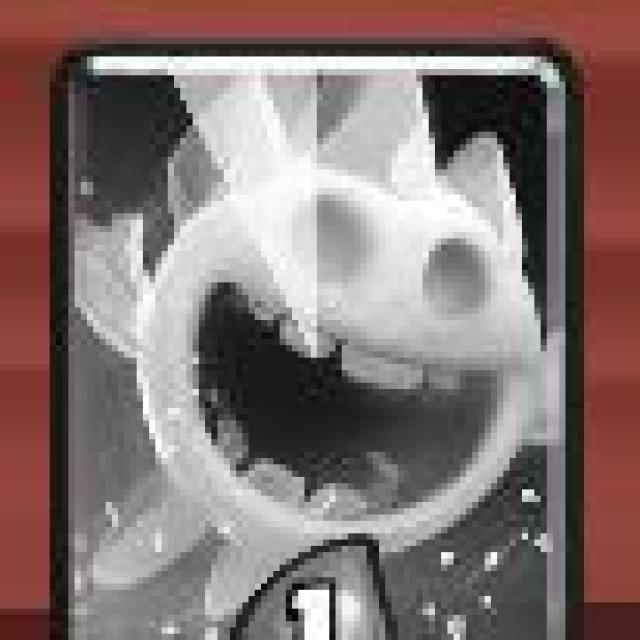Ice_Spirit: (58, 48, 570, 638)
